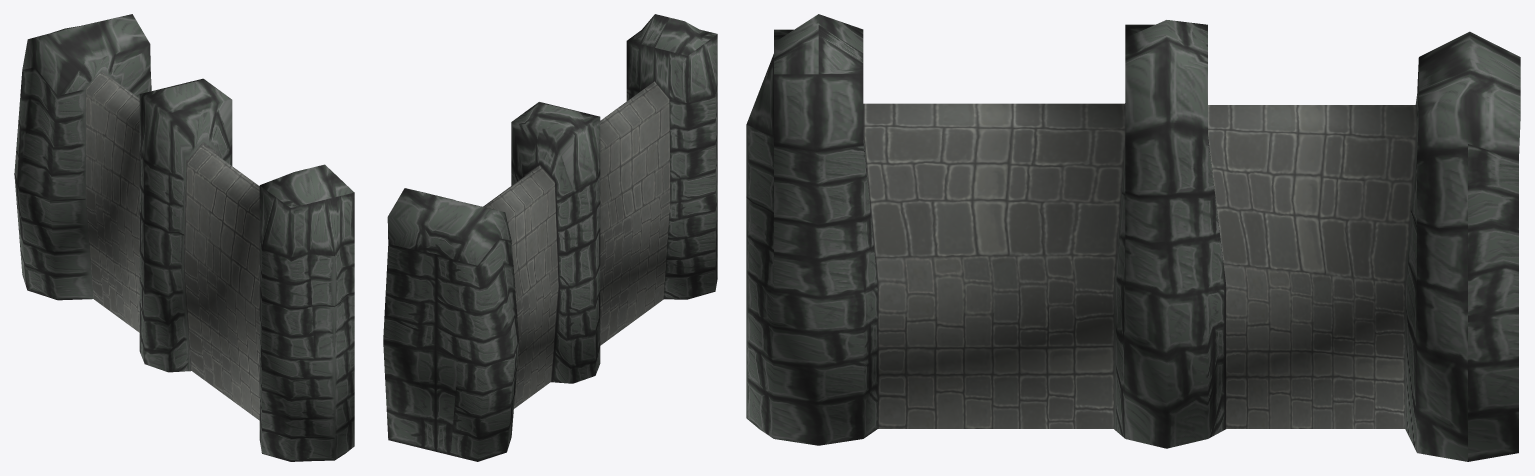
Rendered from Muro_Pedra(meio).fbx.
3 renders of one model, left to right at view 1: azimuth 30°, elevation 25°; view 2: azimuth 150°, elevation 25°; view 3: azimuth 270°, elevation 25°, orthographic. The views are drawn at different scales.
Visible parts, largest first — view 1: Cube; view 2: Cube; view 3: Cube.
Part boxes in pixels (x1,y1,x2,y2): Cube: [14, 14, 354, 461]; Cube: [383, 14, 717, 461]; Cube: [746, 14, 1520, 461].
Bounding box in the file's own units: 5.18 × 10.3 × 18.36.
